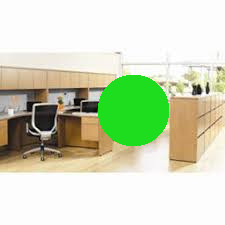focus: (92, 72, 175, 147)
